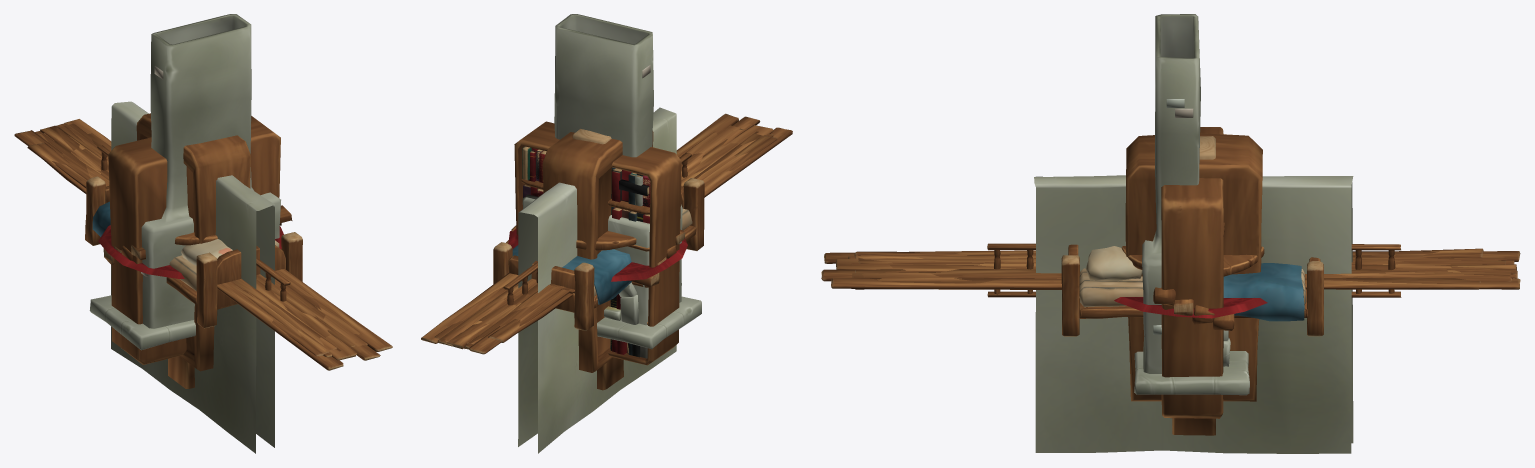
The model's file is FurnitureCenter.fbx.
3 views of the same model, side by side, from view 1: azimuth 30°, elevation 25°; view 2: azimuth 150°, elevation 25°; view 3: azimuth 270°, elevation 25° (orthographic). The views are drawn at different scales.
Visible parts, largest first — view 1: furnace, wall, bookshelf.001, bed, planks4, cupboard, planks2, planks1, planks3, rug, room.008, wall_planks (+1 smaller); view 2: furnace, wall, bookshelf.001, cupboard, bed, planks4, planks1, planks2, planks3, bookshelf.004, rug, wall_planks (+4 smaller); view 3: wall, furnace, bookshelf.001, cupboard, bed, planks4, planks1, planks2, planks3, room.008, rug, stairs (+2 smaller).
Boxes of the visible parts, x1,y1,x2,y2 form: furnace: [89, 14, 280, 350]; wall: [111, 101, 274, 453]; bookshelf.001: [108, 116, 280, 364]; bed: [85, 176, 302, 328]; planks4: [27, 133, 392, 370]; cupboard: [136, 113, 250, 371]; planks2: [35, 123, 361, 352]; planks1: [14, 119, 365, 356]; planks3: [57, 124, 367, 357]; rug: [98, 225, 283, 278]; room.008: [97, 145, 290, 301]; wall_planks: [168, 356, 194, 388]; furnace: [522, 14, 701, 349]; wall: [518, 107, 676, 453]; bookshelf.001: [514, 121, 681, 365]; cupboard: [542, 131, 653, 372]; bed: [493, 178, 704, 330]; planks4: [444, 113, 792, 342]; planks1: [421, 126, 777, 354]; planks2: [434, 128, 769, 349]; planks3: [438, 125, 773, 349]; bookshelf.004: [522, 146, 650, 355]; rug: [508, 229, 687, 281]; wall_planks: [572, 129, 623, 390]; wall: [1034, 175, 1353, 453]; furnace: [1134, 14, 1249, 395]; bookshelf.001: [1161, 127, 1224, 418]; cupboard: [1125, 133, 1262, 401]; bed: [1061, 244, 1323, 336]; planks4: [821, 248, 1484, 289]; planks1: [854, 251, 1520, 289]; planks2: [855, 255, 1516, 281]; planks3: [848, 255, 1514, 281]; room.008: [987, 243, 1401, 297]; rug: [1114, 297, 1267, 318]; stairs: [1153, 287, 1234, 330].
Size of the model in its own units: 324 by 711 by 1090.
7 materials, 5 textured.
